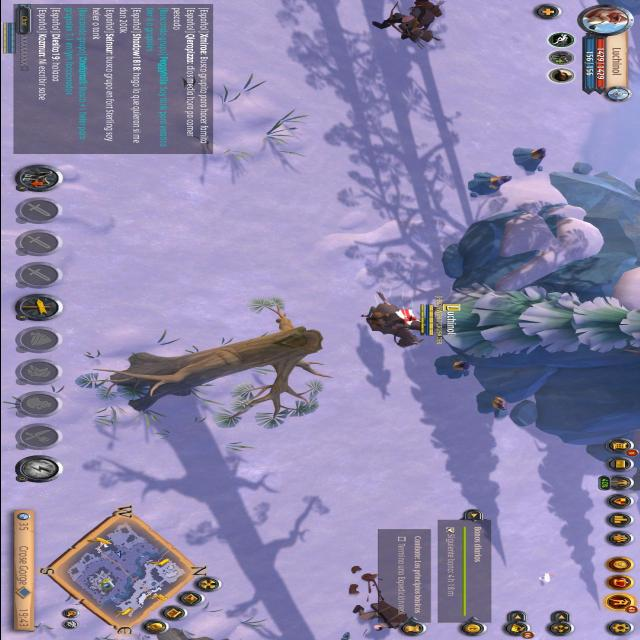piedra_cobre: (466, 172, 511, 196), (432, 356, 477, 378), (474, 390, 509, 417), (511, 147, 545, 171)
